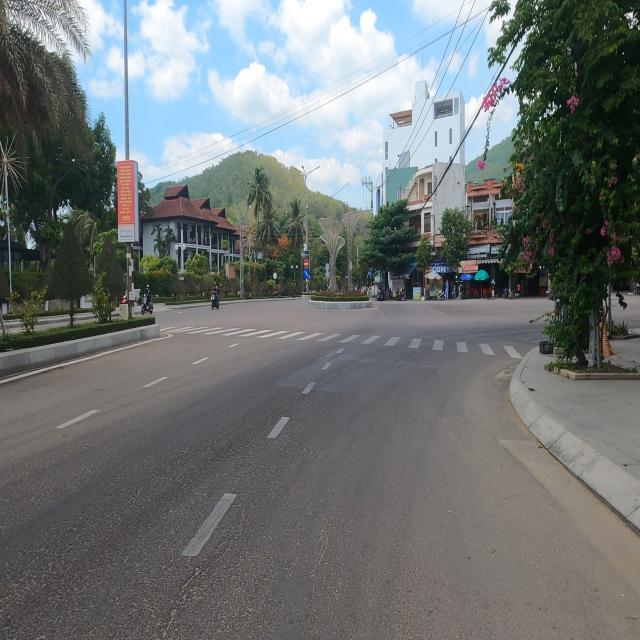walk-crossing: (160, 322, 525, 359)
